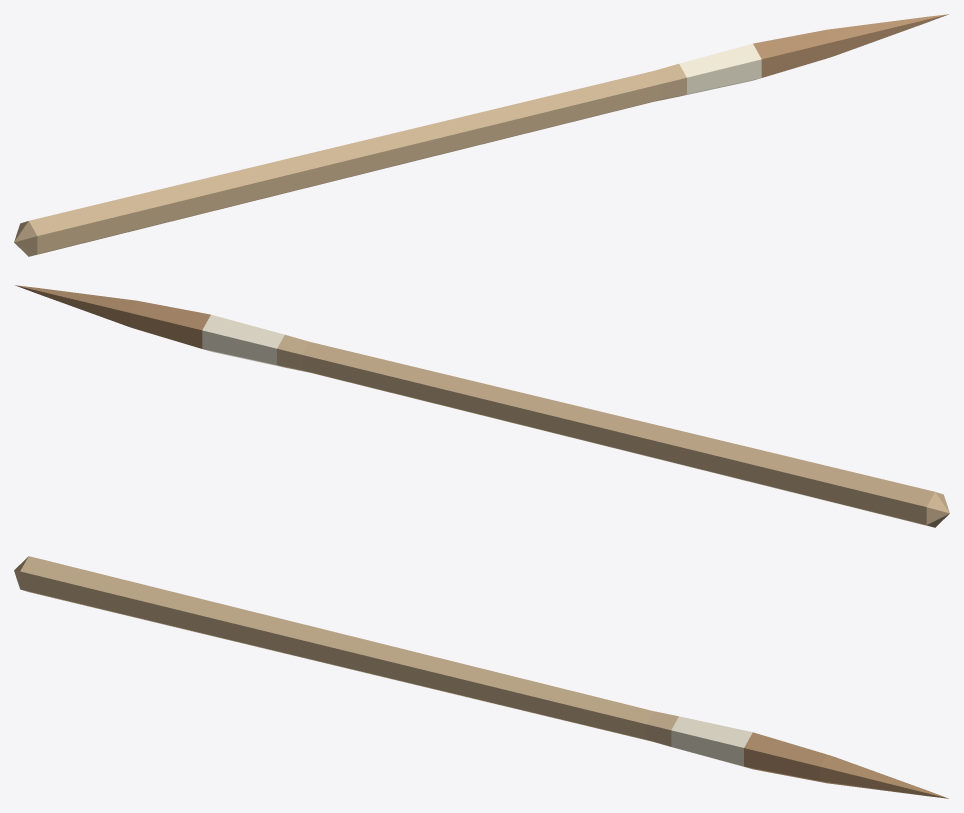
File: prop-squirrel-hair-brush.fbx
3 views of the same model, one above another, from view 1: azimuth 30°, elevation 25°; view 2: azimuth 150°, elevation 25°; view 3: azimuth 330°, elevation 25° (orthographic).
Visible parts, largest first — view 1: prop-squirrel-hair-brush; view 2: prop-squirrel-hair-brush; view 3: prop-squirrel-hair-brush.
Part boxes in pixels (<box>): prop-squirrel-hair-brush: <box>14,14,948,256</box>; prop-squirrel-hair-brush: <box>15,285,949,527</box>; prop-squirrel-hair-brush: <box>14,556,948,798</box>.
Size of the model in its own units: 19 by 0.72 by 0.6235.
